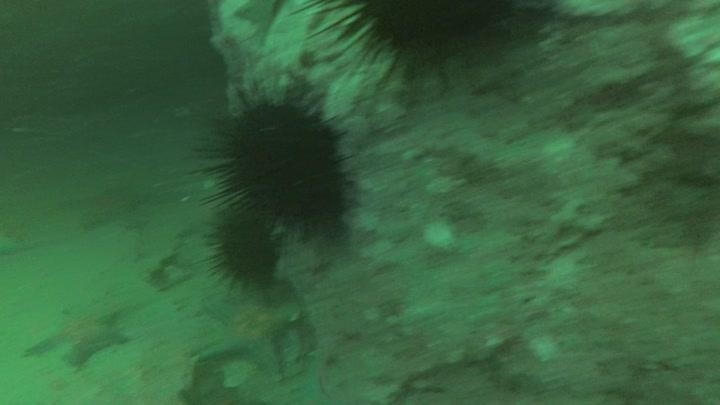urchin: (192, 87, 352, 231), (300, 2, 548, 90), (197, 216, 279, 292)
